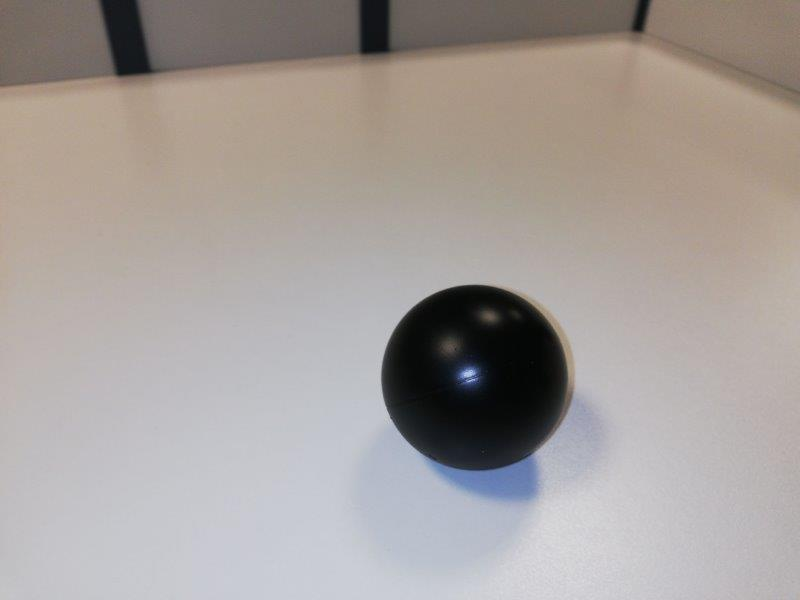nera: (380, 282, 574, 475)
